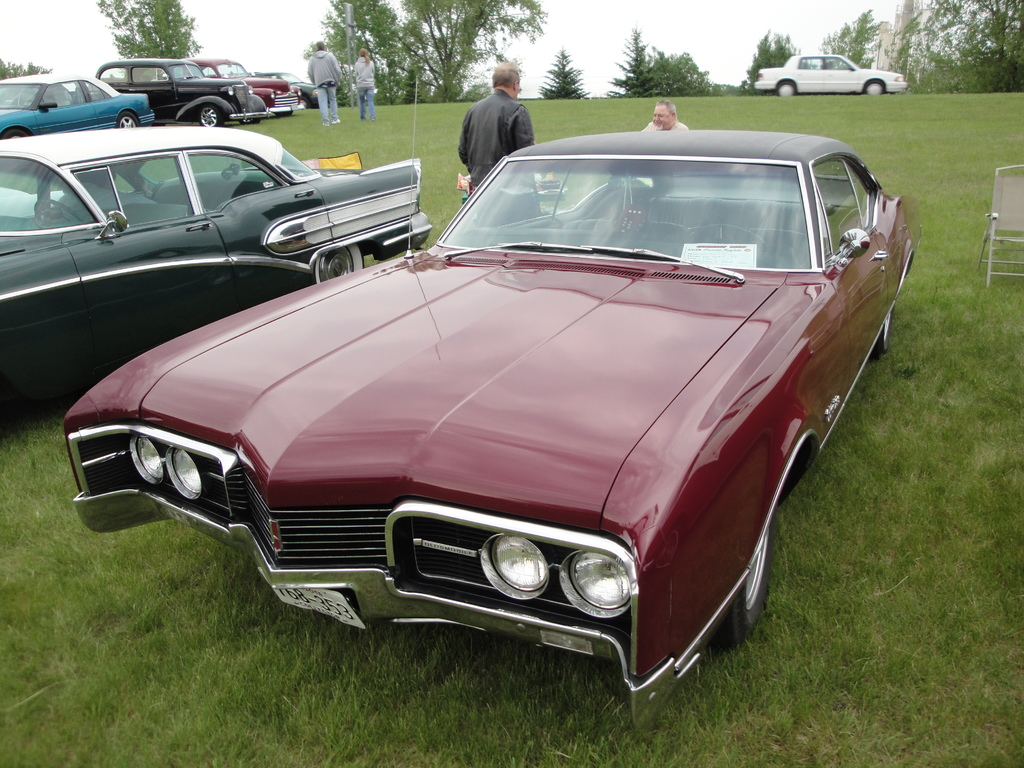Car: (76, 144, 909, 688), (0, 125, 432, 415), (89, 58, 273, 126), (0, 71, 154, 140), (158, 56, 306, 114), (753, 52, 906, 96), (206, 71, 328, 107)
